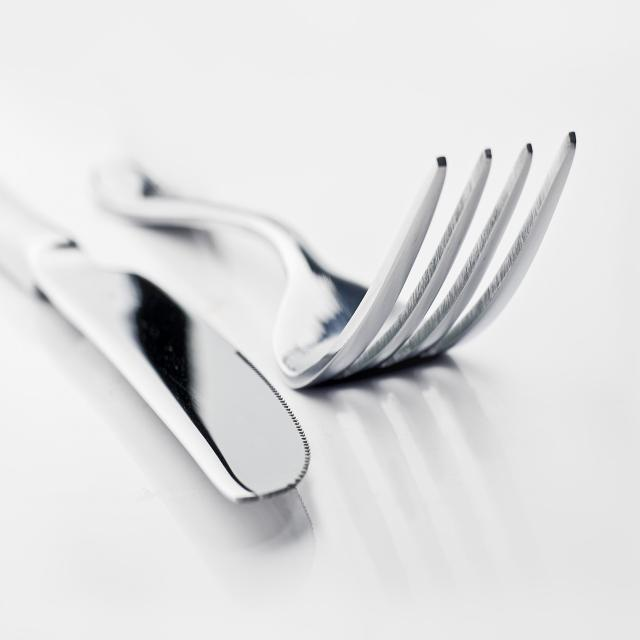Knife: (1, 188, 308, 501)
